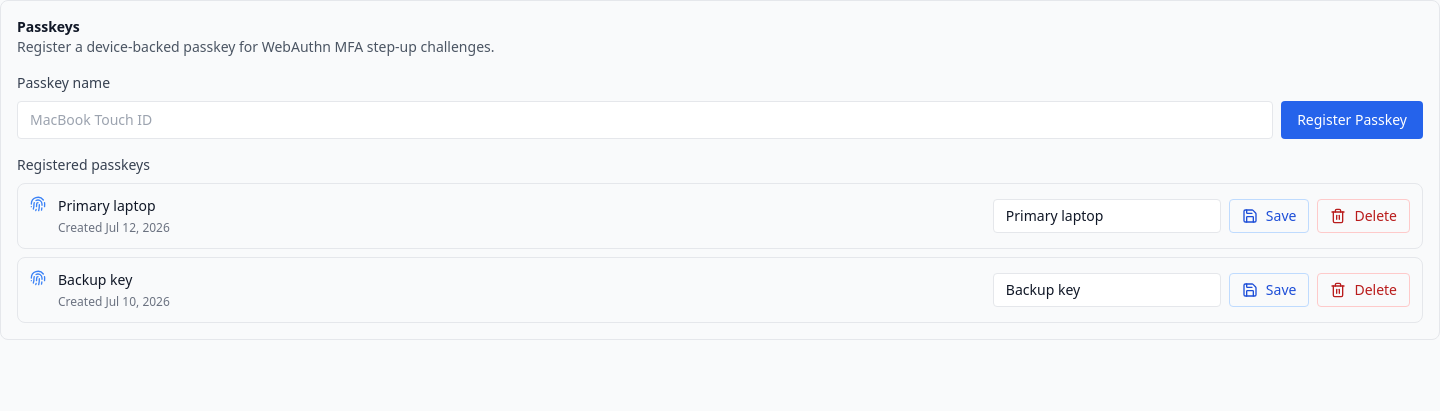
Scenario: Passkeys › renames one credential inline and refreshes through the list owner
Replace the text in the 1st field with test id "passkey-rename-input" with " Renamed laptop " at (1107, 216), box [993, 199, 1221, 233]
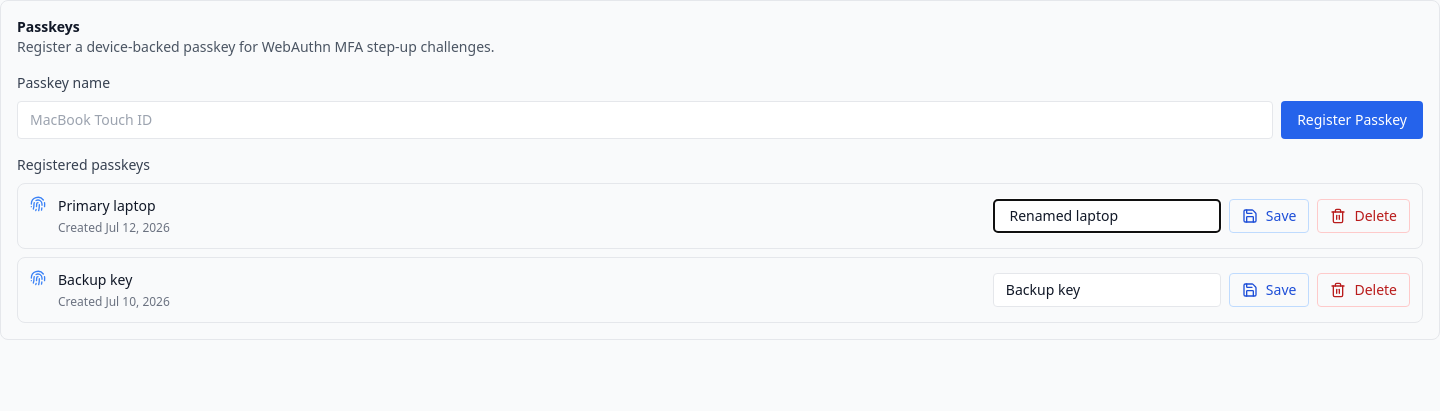
Click the button with test id "passkey-rename-button" at (1269, 216), box [1229, 199, 1310, 233]
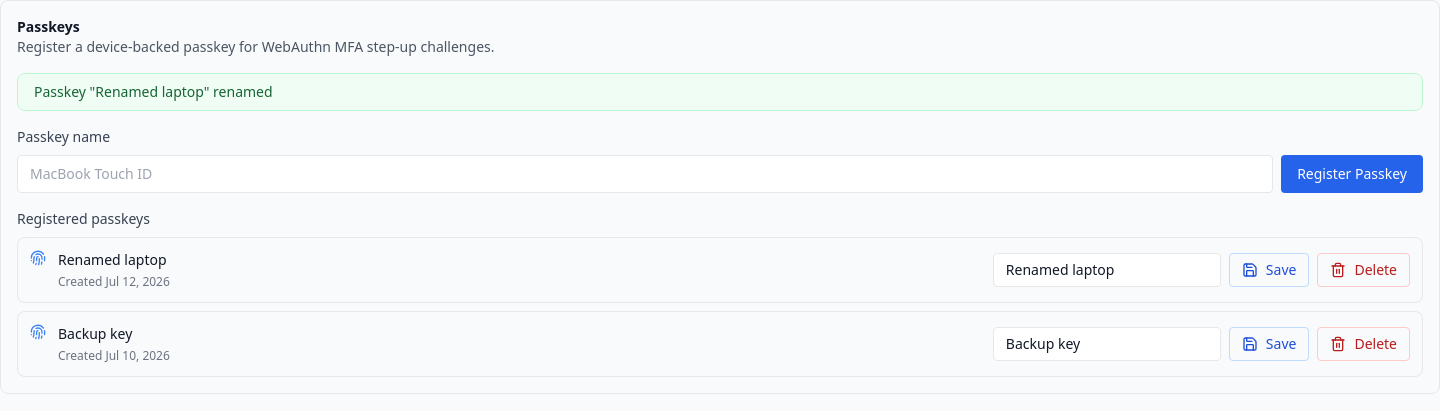
Check: the text "Backup key" is shown, box [58, 324, 132, 343]
Check: the text "Passkey \"Renamed laptop\" renamed" is shown, box [17, 73, 1423, 111]
